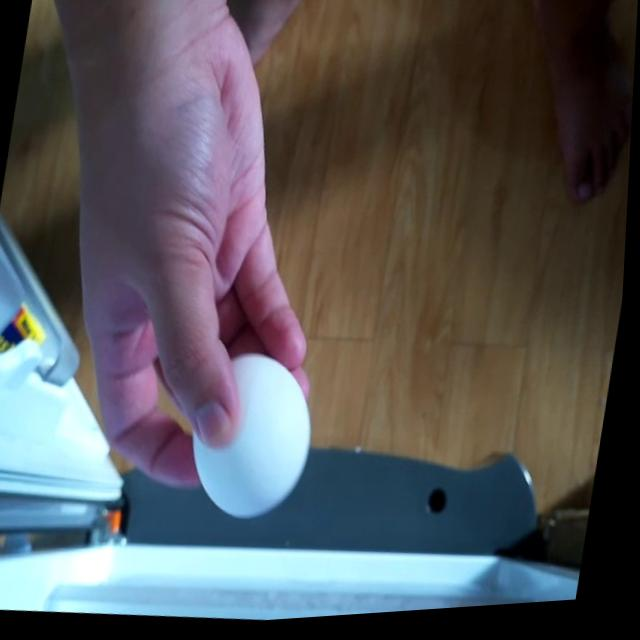egg: (181, 347, 333, 536)
